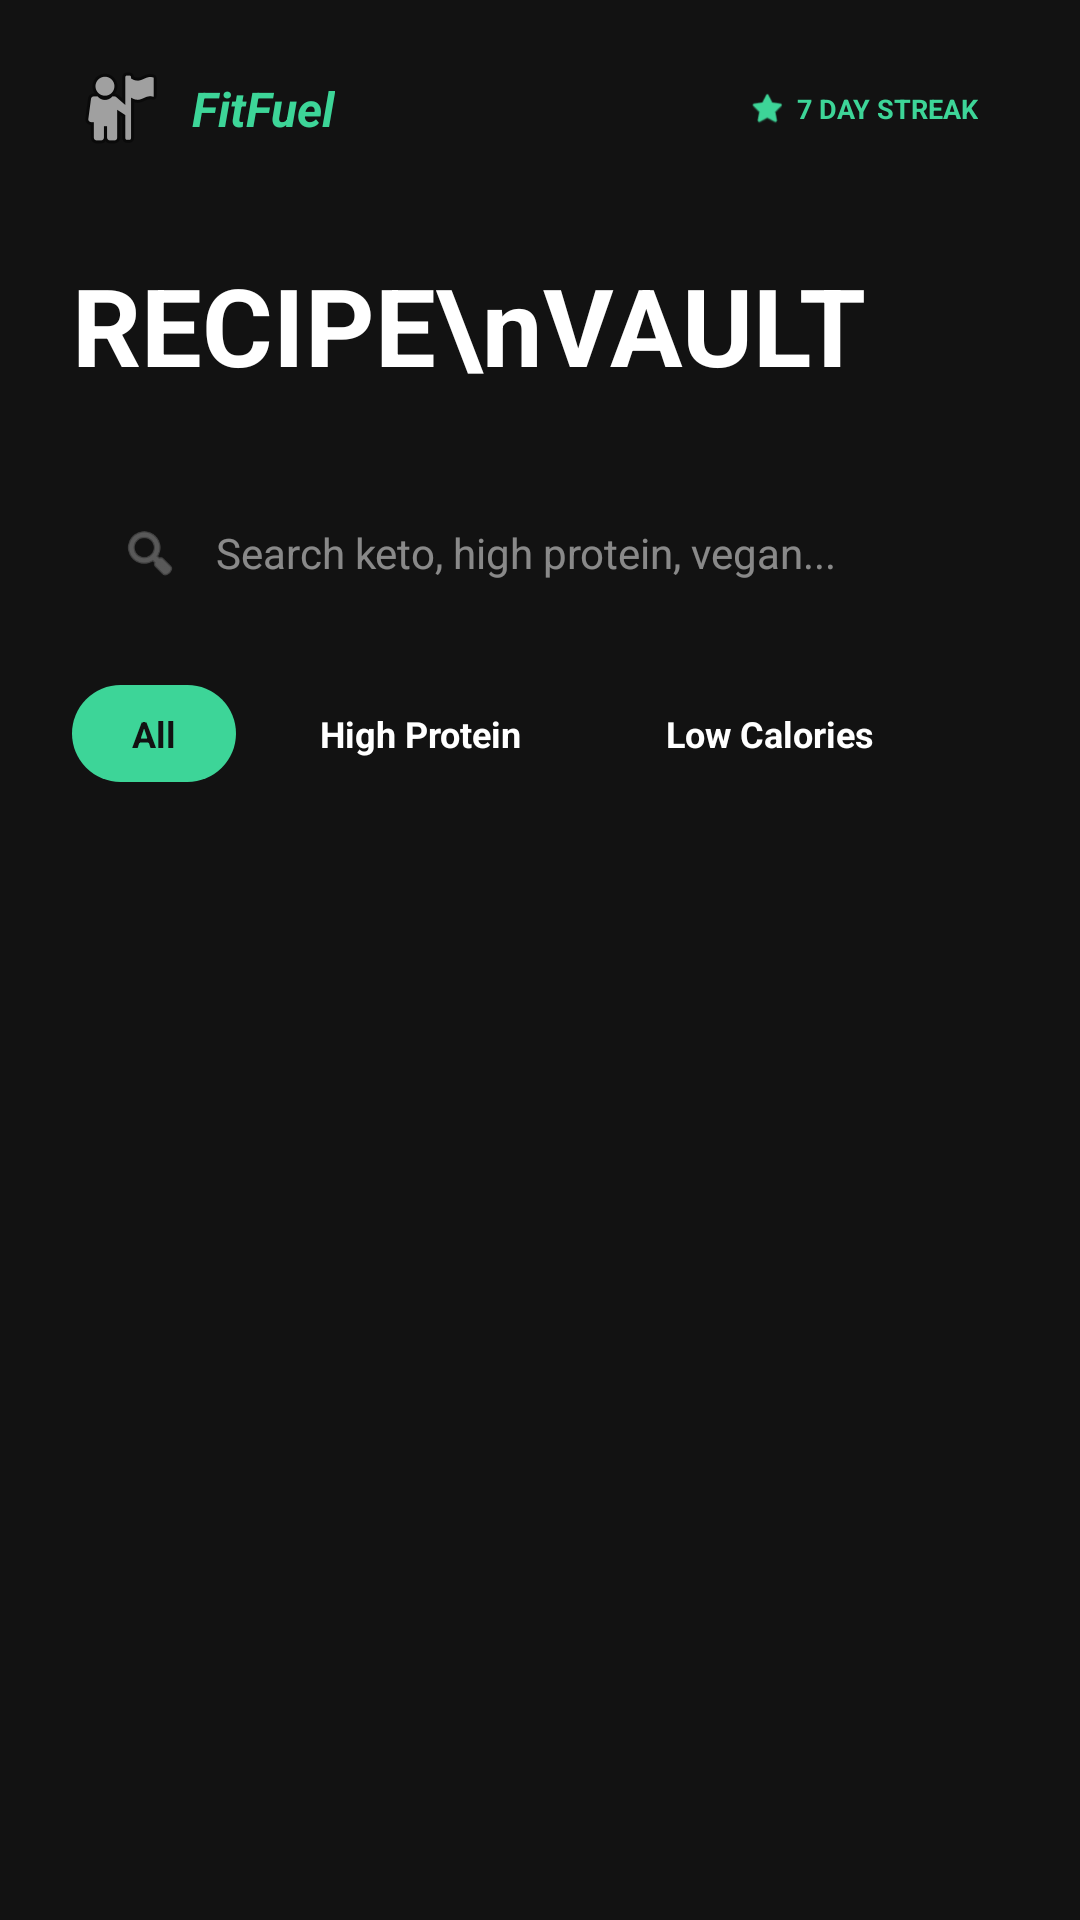

Screen size 1080×1920. Icon name, then its box in pixels as (x1, y1, x2, y2):
myplaces: (88, 75, 154, 141)
star on: (752, 94, 782, 123)
